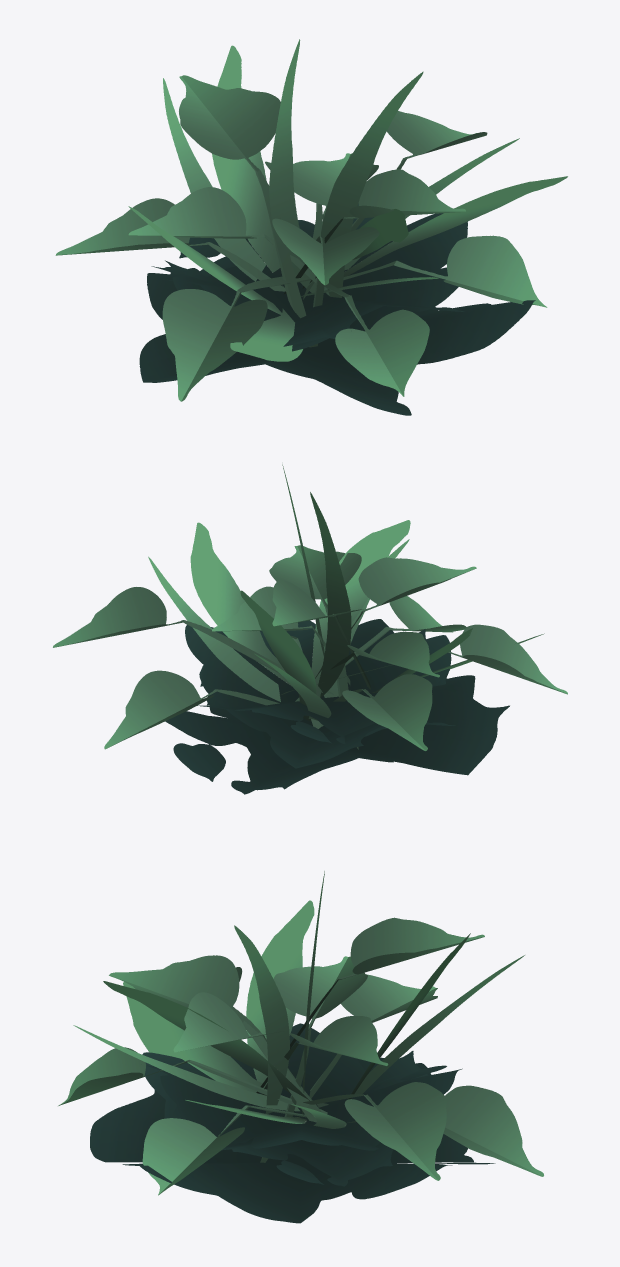
File: plant_01.glb
The picture shows the model from 3 angles, top to bottom: view 1: azimuth 30°, elevation 25°; view 2: azimuth 150°, elevation 25°; view 3: azimuth 270°, elevation 25°; orthographic projection. The views are drawn at different scales.
Parts seen in each view (by area): view 1: plant_01; view 2: plant_01; view 3: plant_01.
Part boxes in pixels (x1,y1,x2,y2): plant_01: (55, 39, 567, 415); plant_01: (53, 464, 567, 794); plant_01: (58, 871, 543, 1223).
Bounding box in the file's own units: 1.56 × 0.8547 × 1.42.
1 material, 1 textured.
